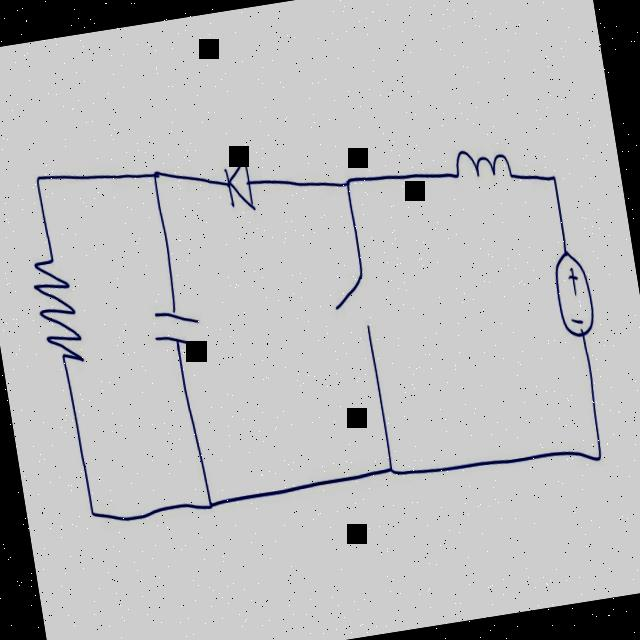capacitor: (137, 276, 224, 400)
diode: (205, 138, 272, 237)
inductor: (437, 118, 528, 218)
resistor: (21, 216, 102, 396)
source: (544, 223, 607, 366)
switch: (318, 242, 400, 384)
